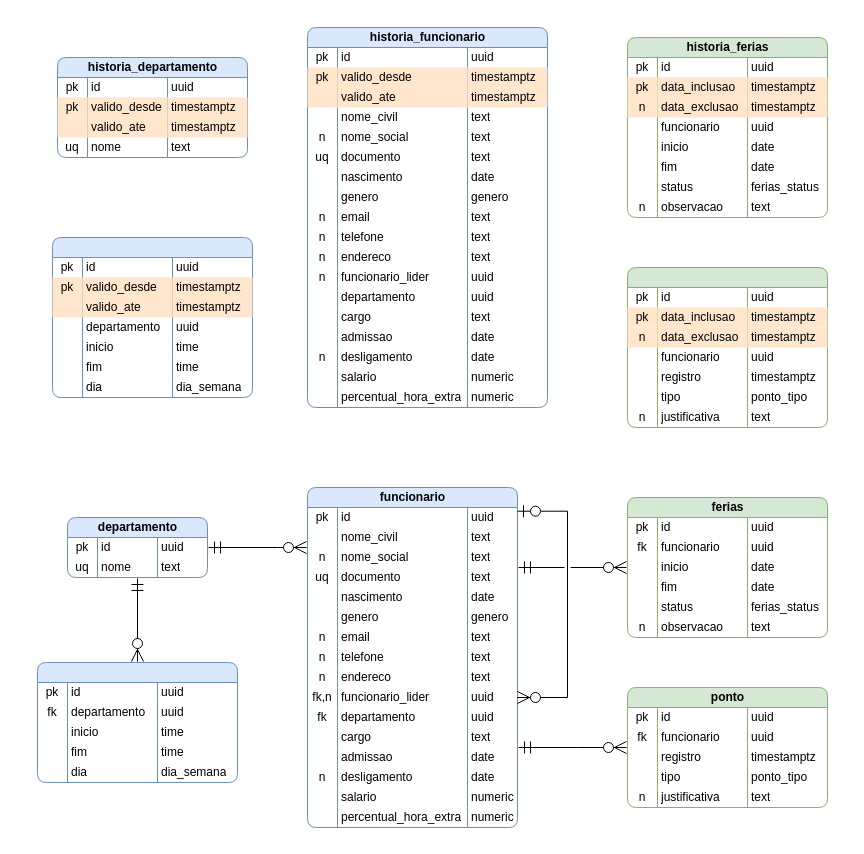
This 864x854 diagram has some shape labels left out. Here are the shapes that lost their labels. From the top down, the box of each, then its label:
(52, 236, 252, 398): historia_horario
(626, 266, 828, 428): historia_ponto
(36, 662, 238, 782): horario
